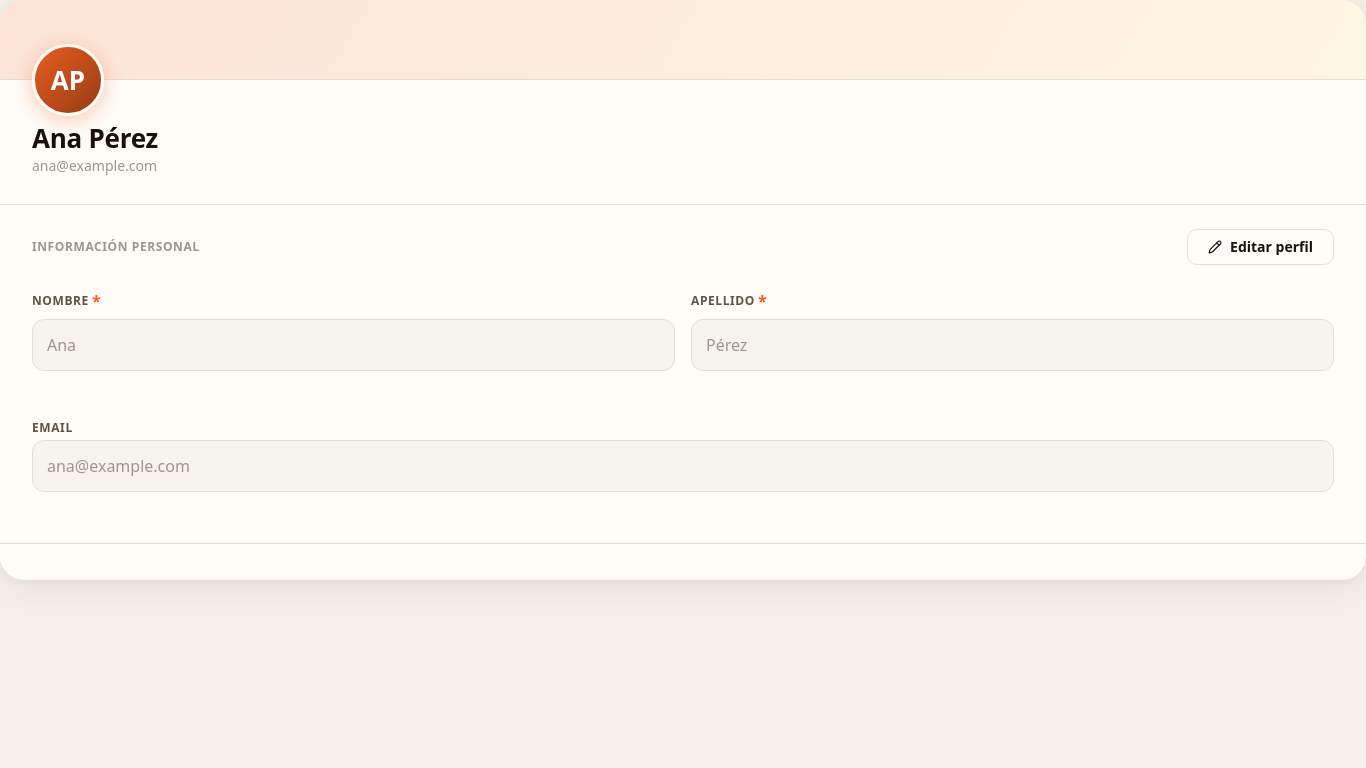
Test: ProfileForm › saves the trimmed name and last name and shows a confirmation
Click the button "Editar perfil" at point(1260, 247), box [1187,229,1334,265]
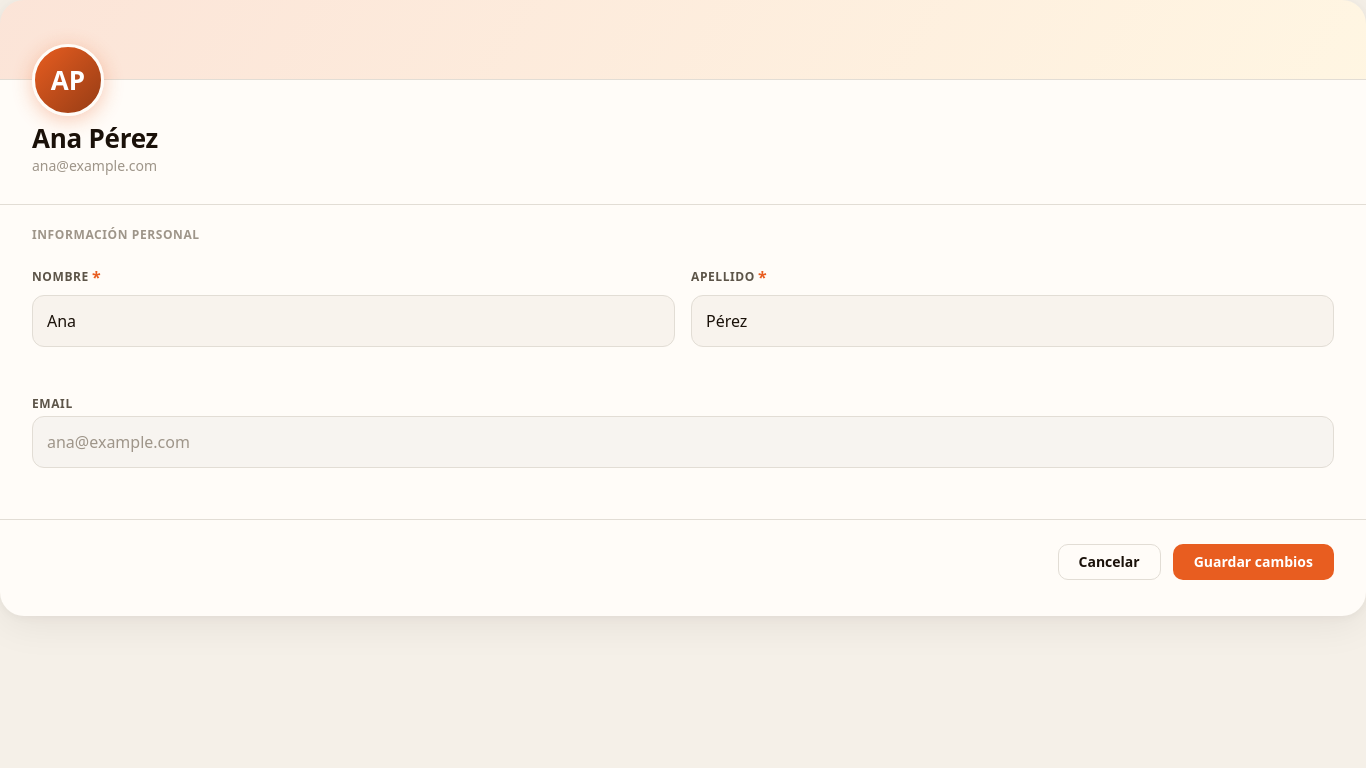
Clear the field labelled "Nombre" at point(354, 321), box [32,295,675,347]
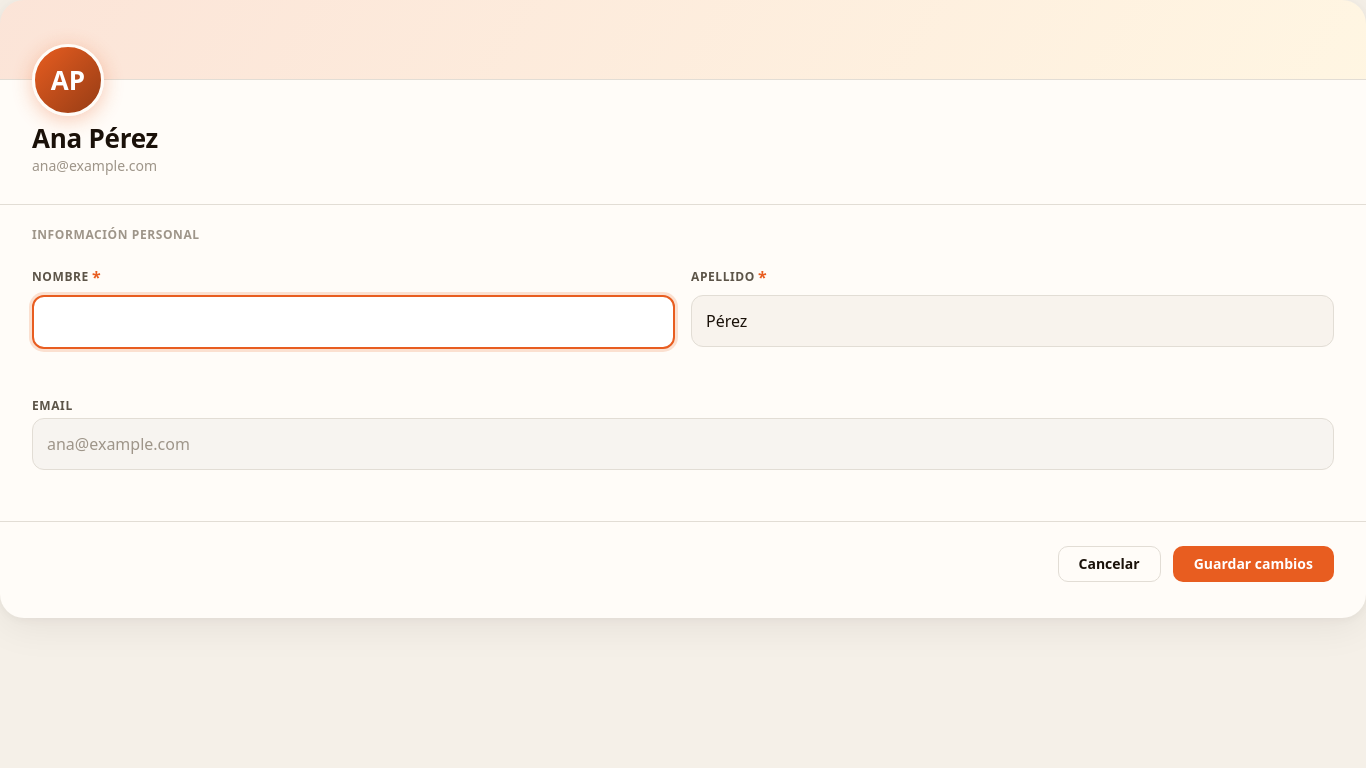
Type "  Ana María  " into the field labelled "Nombre" at point(354, 322), box [32,295,675,349]
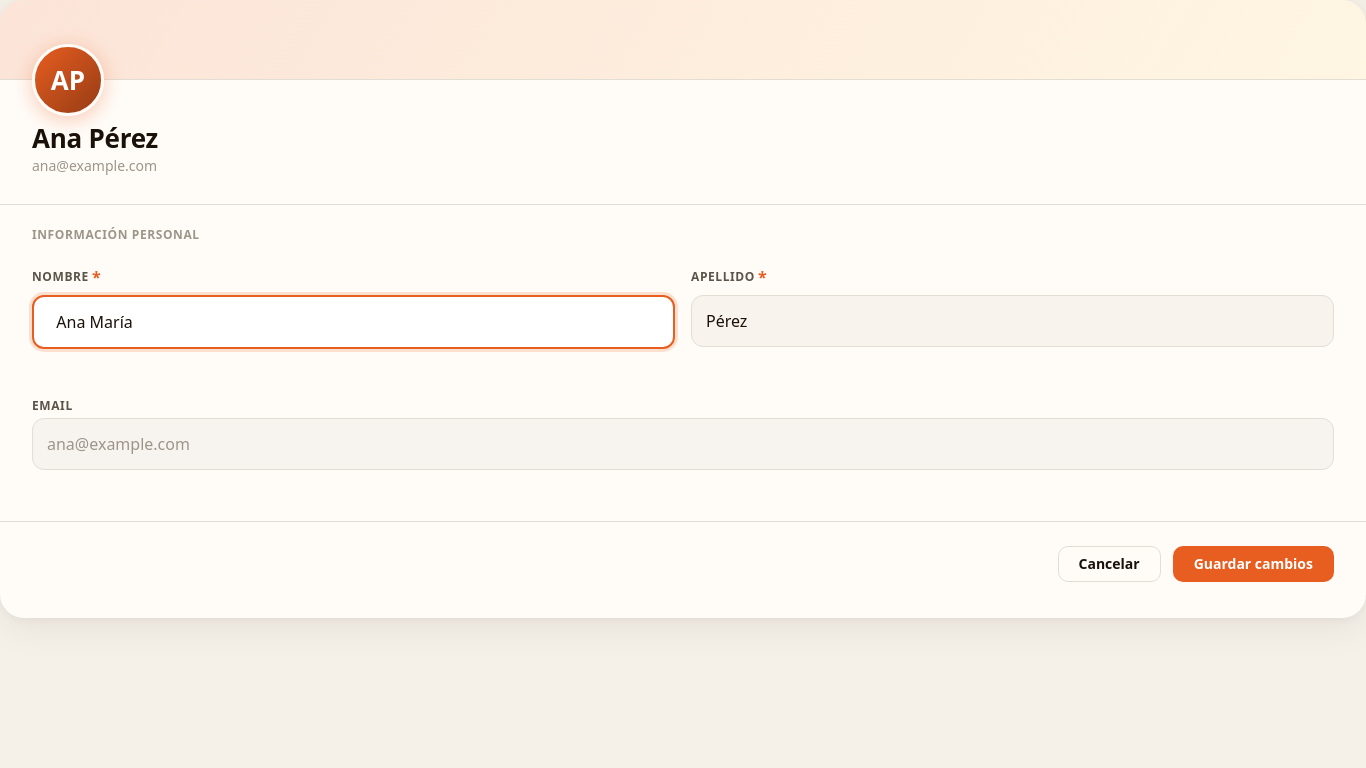
Click the button "Guardar cambios" at point(1253, 564), box [1173,546,1334,582]
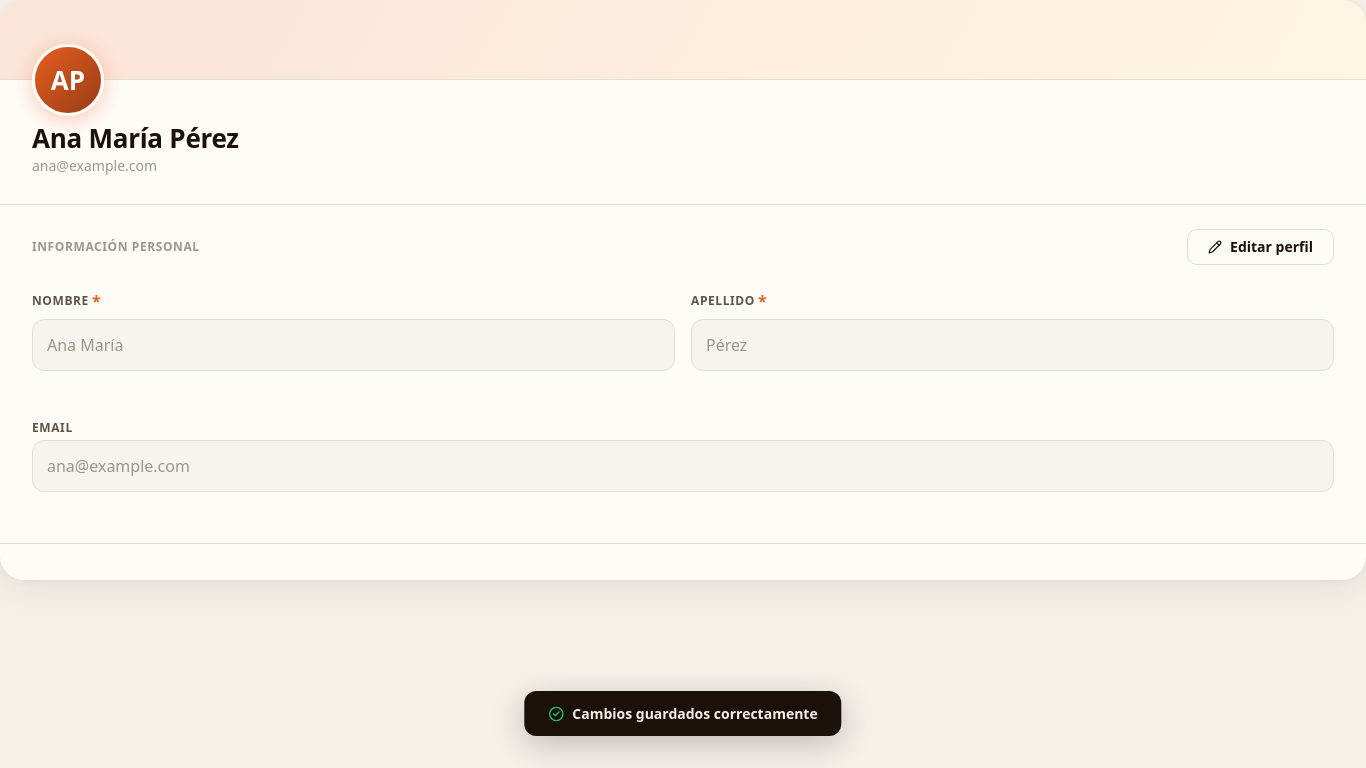
Check: the text "Cambios guardados correctamente" is shown, box [524,691,842,736]
